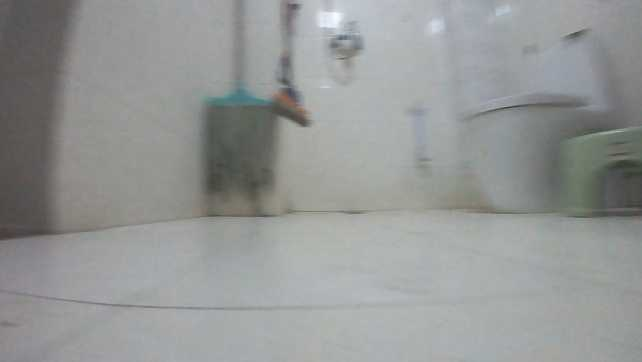toilet: (451, 19, 616, 214)
